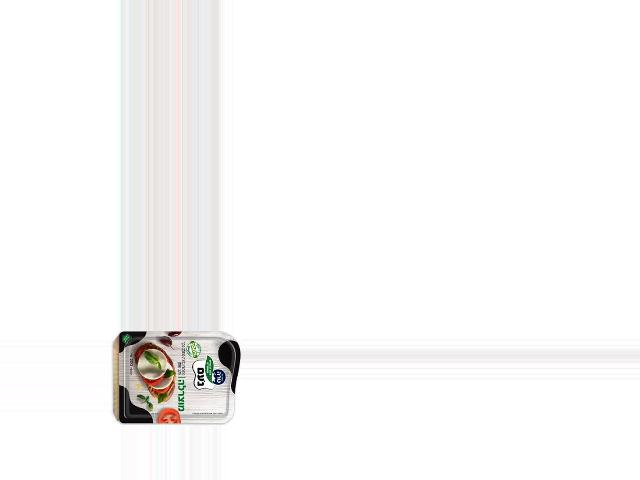cheese: (117, 331, 238, 425)
